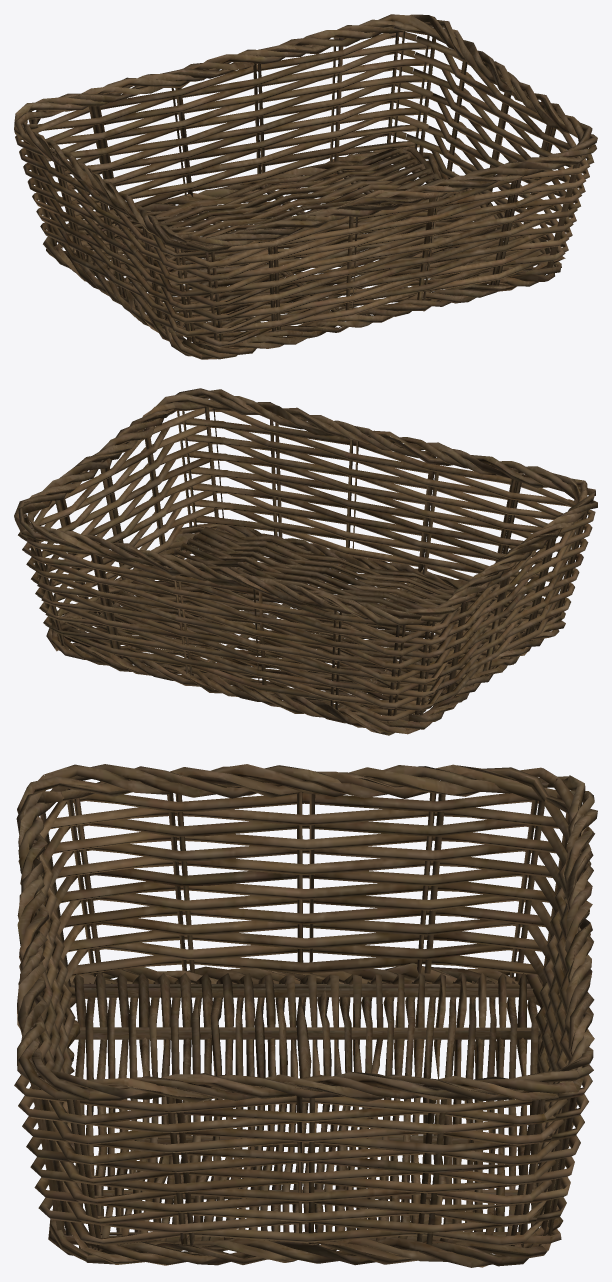
Rendered from wicker_basket_01.glb.
3 views of the same model, one above another, from view 1: azimuth 30°, elevation 25°; view 2: azimuth 150°, elevation 25°; view 3: azimuth 270°, elevation 25° (orthographic). The views are drawn at different scales.
Visible parts, largest first — view 1: wicker_basket_01; view 2: wicker_basket_01; view 3: wicker_basket_01.
Part boxes in pixels (<box>): wicker_basket_01: <box>14,14,597,359</box>; wicker_basket_01: <box>14,388,597,735</box>; wicker_basket_01: <box>14,764,597,1267</box>.
Size of the model in its own units: 0.3834 by 0.1184 by 0.2948.
1 material, 1 textured.
